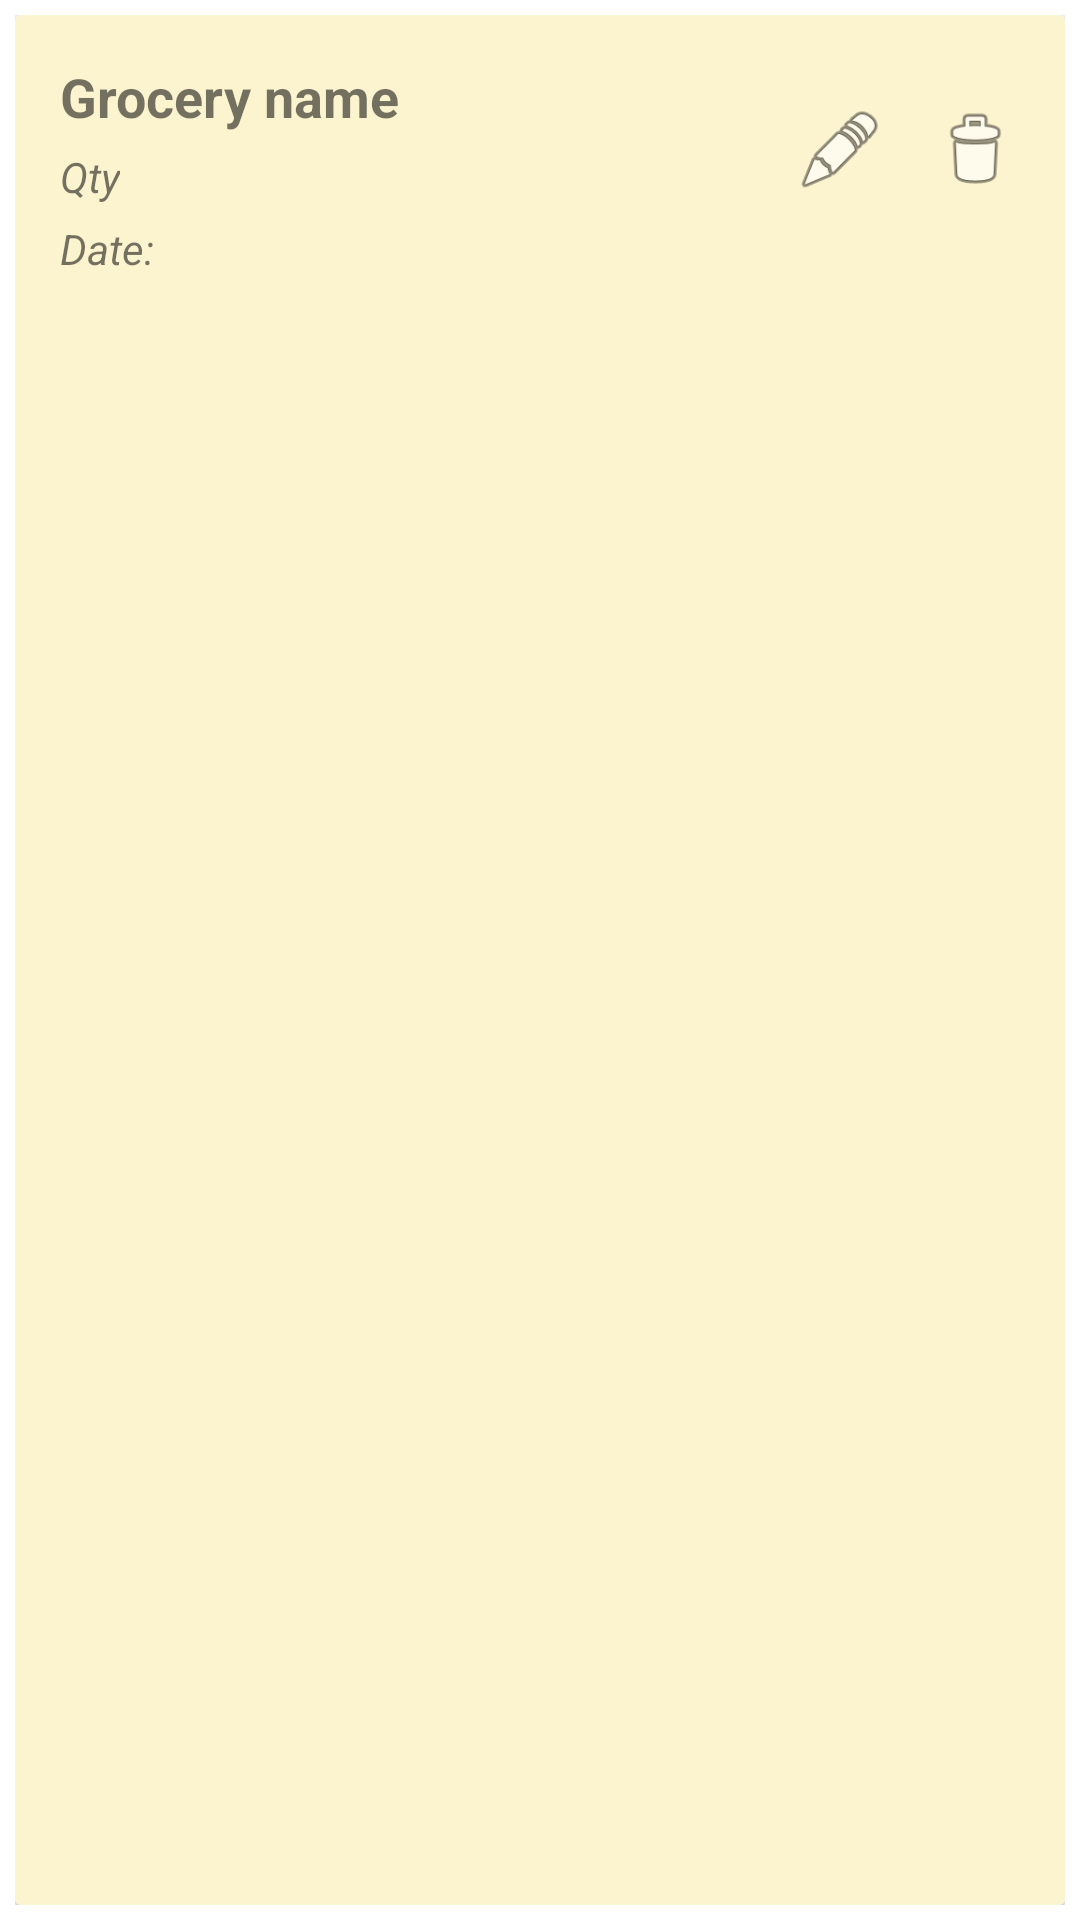

Icons on this 1080 × 1920 Android screen, each with the point to tap as point (x, y):
delete: point (975, 148)
edit: point (839, 149)
